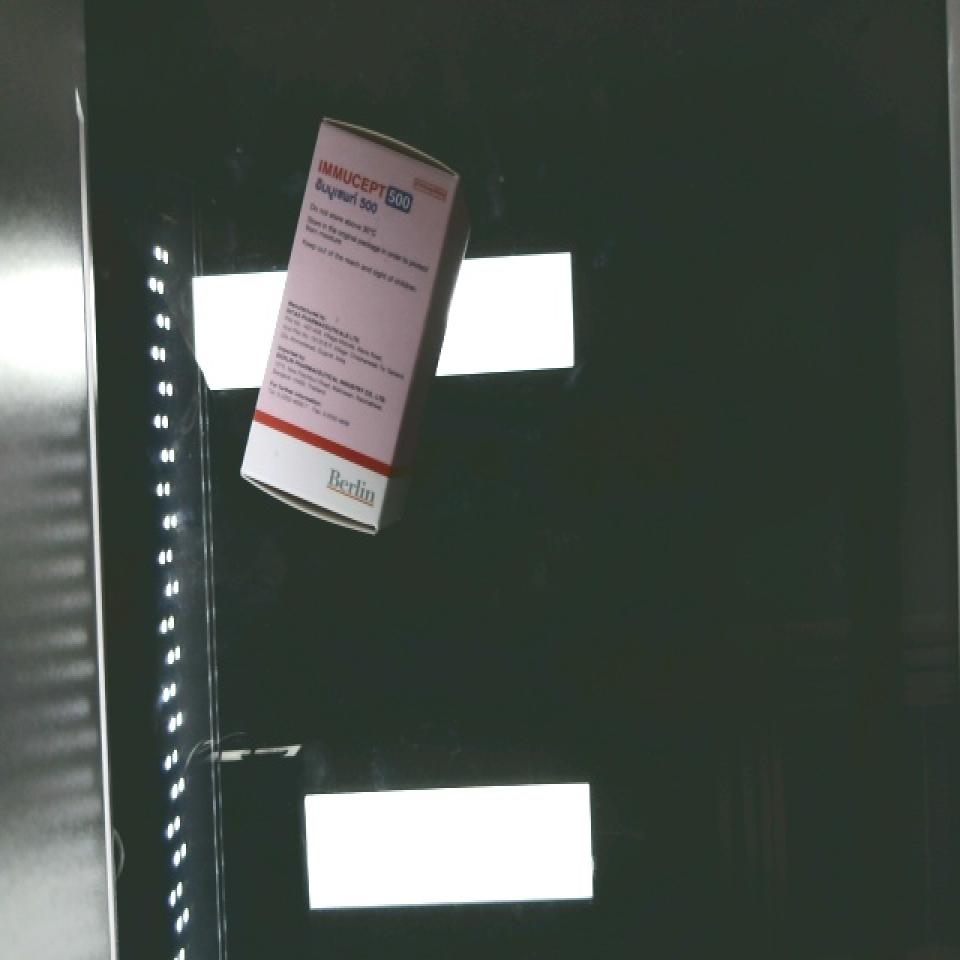medicine_box: (233, 116, 459, 536)
medicine_label_obb: (301, 146, 429, 228)
